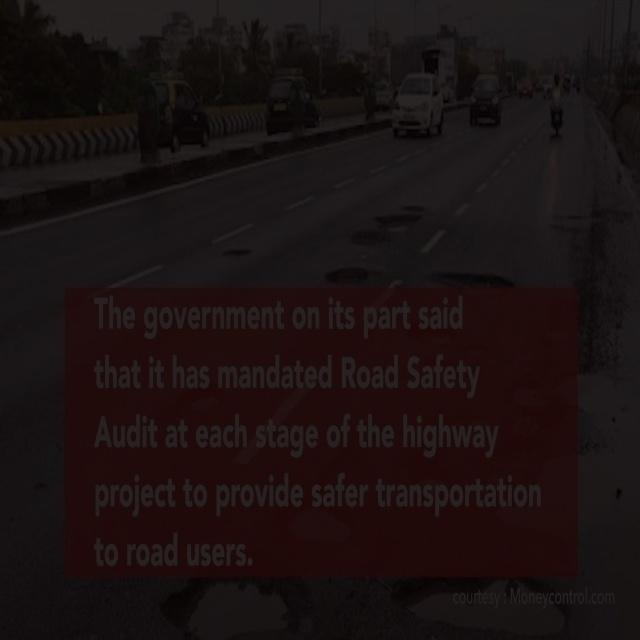Pothole: (387, 573, 584, 640), (154, 572, 318, 640), (347, 193, 442, 251), (422, 257, 520, 291), (320, 256, 371, 286), (222, 242, 254, 260)
